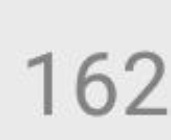TextView: (1, 1, 170, 139)
